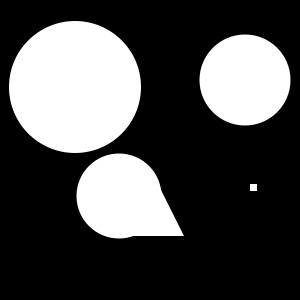circle: (250, 184, 257, 191)
rectangle: (9, 21, 141, 153), (200, 34, 290, 126), (76, 154, 162, 238)
triangle: (126, 178, 184, 236)
